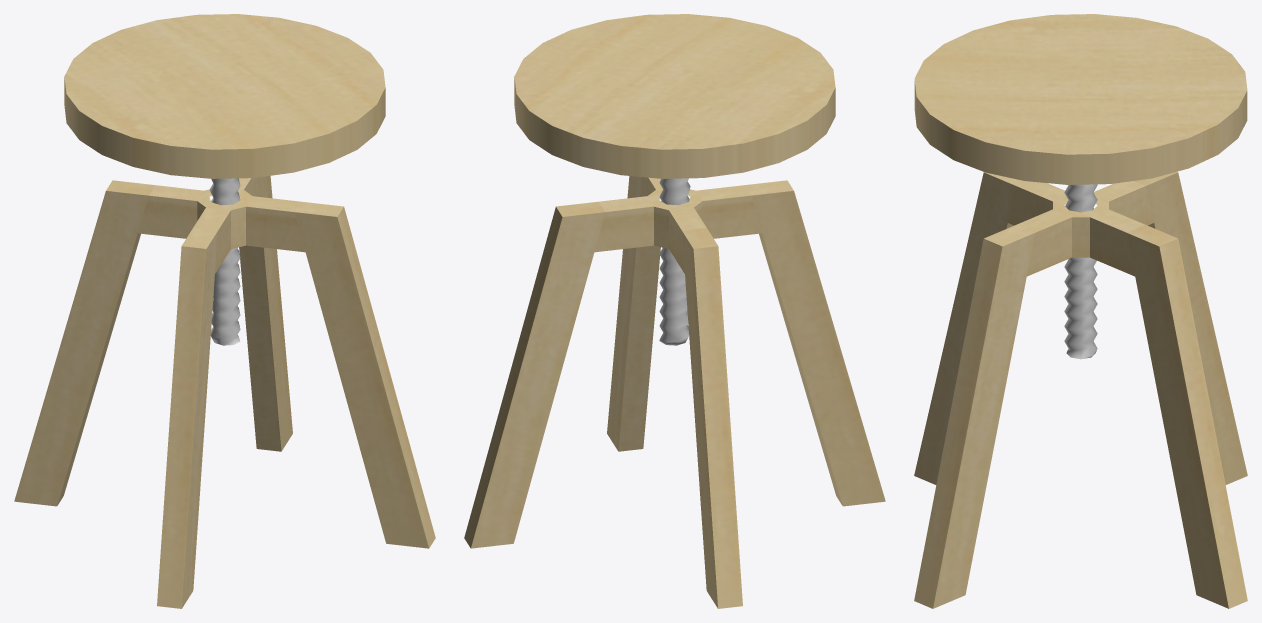
File: sweethome3d-contributions-stool-488.glb
3 views of the same model, side by side, from view 1: azimuth 30°, elevation 25°; view 2: azimuth 150°, elevation 25°; view 3: azimuth 270°, elevation 25° (orthographic). The views are drawn at different scales.
Parts seen in each view (by area): view 1: base_1, sweethome3d_opening_on_rail_1_seat_4, sweethome3d_opening_on_rail_1_twist_3; view 2: base_1, sweethome3d_opening_on_rail_1_seat_4, sweethome3d_opening_on_rail_1_twist_3; view 3: base_1, sweethome3d_opening_on_rail_1_seat_4, sweethome3d_opening_on_rail_1_twist_3.
Boxes of the visible parts, x1,y1,x2,y2 form: base_1: (14, 175, 435, 608); sweethome3d_opening_on_rail_1_seat_4: (64, 14, 385, 178); sweethome3d_opening_on_rail_1_twist_3: (209, 178, 240, 345); base_1: (464, 176, 885, 608); sweethome3d_opening_on_rail_1_seat_4: (514, 14, 835, 178); sweethome3d_opening_on_rail_1_twist_3: (659, 178, 690, 345); base_1: (914, 172, 1247, 608); sweethome3d_opening_on_rail_1_seat_4: (914, 14, 1247, 184); sweethome3d_opening_on_rail_1_twist_3: (1064, 184, 1097, 359).
Size of the model in its own units: 29.98 by 45 by 29.98.
3 materials, 2 textured.
